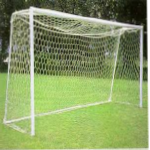goals: (3, 4, 145, 136)
